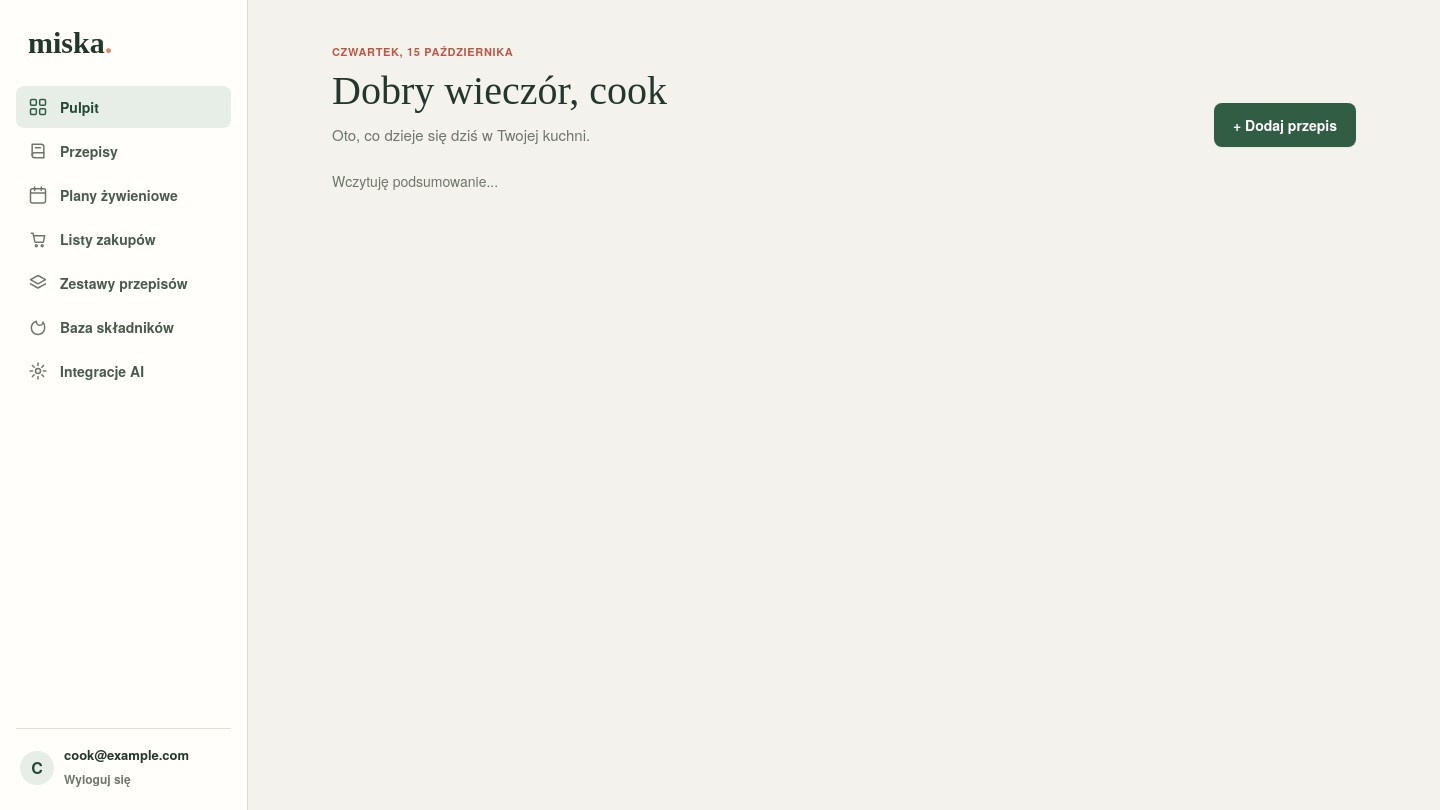
it: account access screen › shows a sign-out error without leaving the current screen
The width and height of the screenshot is (1440, 810).
Expected: the heading "Dobry wieczór, cook" is shown, [332, 69, 667, 113]
Click the button "Wyloguj się" at (97, 779), box [56, 768, 139, 790]
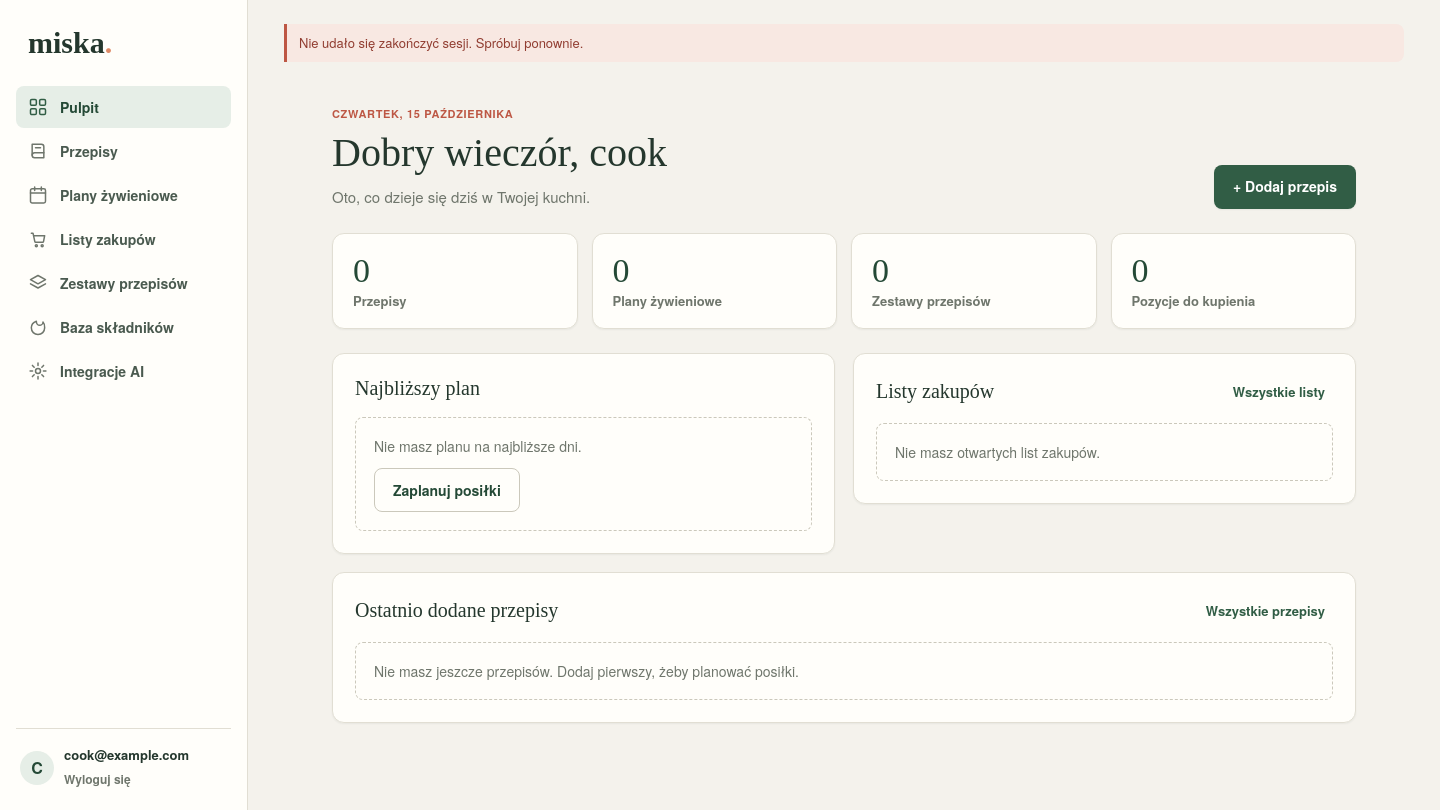
Expected: the heading "Dobry wieczór, cook" is shown, [332, 131, 667, 175]
Result: the message reads "Nie udało się zakończyć sesji. Spróbuj ponownie." at [299, 33, 583, 52]
